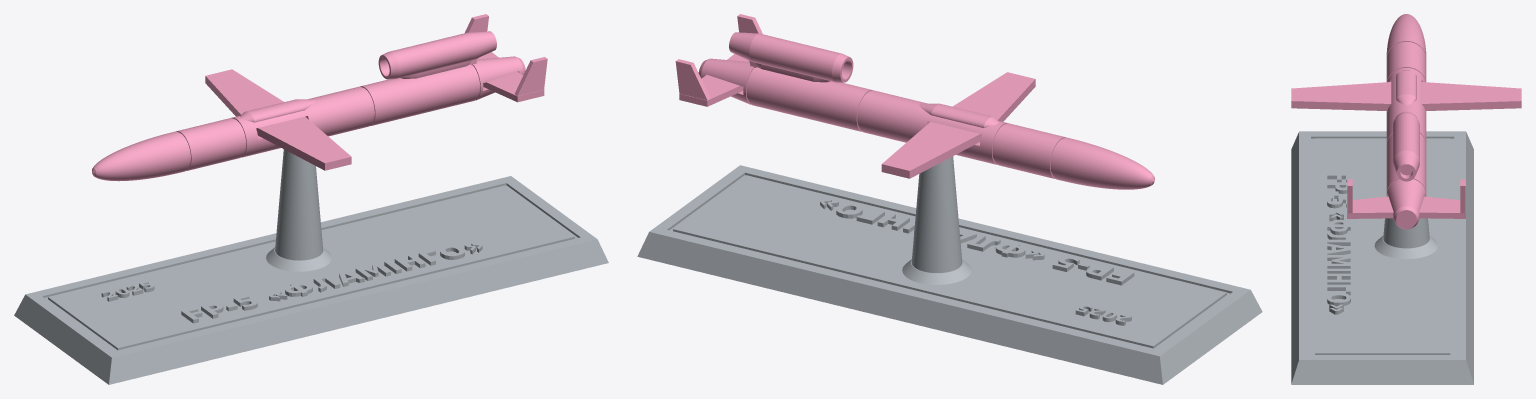
The model's file is flamingo.glb.
3 renders of one model, left to right at view 1: azimuth 30°, elevation 25°; view 2: azimuth 150°, elevation 25°; view 3: azimuth 270°, elevation 25°, orthographic. The views are drawn at different scales.
Parts seen in each view (by area): view 1: stand, fuselage, wing, tail; view 2: stand, fuselage, wing, tail; view 3: stand, fuselage, wing, tail.
Boxes of the visible parts, bbox=[...] form: stand: bbox=[14, 149, 608, 384]; fuselage: bbox=[92, 31, 525, 181]; wing: bbox=[205, 69, 351, 170]; tail: bbox=[465, 14, 547, 102]; stand: bbox=[637, 156, 1262, 384]; fuselage: bbox=[698, 32, 1154, 189]; wing: bbox=[881, 72, 1035, 178]; tail: bbox=[675, 14, 762, 106]; stand: bbox=[1291, 131, 1473, 384]; fuselage: bbox=[1386, 14, 1426, 229]; wing: bbox=[1291, 82, 1521, 110]; tail: bbox=[1347, 179, 1465, 218].
Size of the model in its own units: 0.14 by 0.0548 by 0.058.
